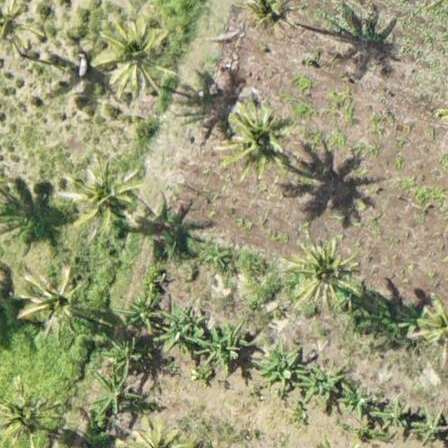palm_tree: (218, 94, 296, 174), (92, 14, 170, 91), (65, 163, 134, 236), (19, 261, 85, 332), (294, 237, 359, 307), (1, 384, 58, 448), (119, 416, 191, 448), (307, 433, 366, 448), (438, 80, 448, 128)
